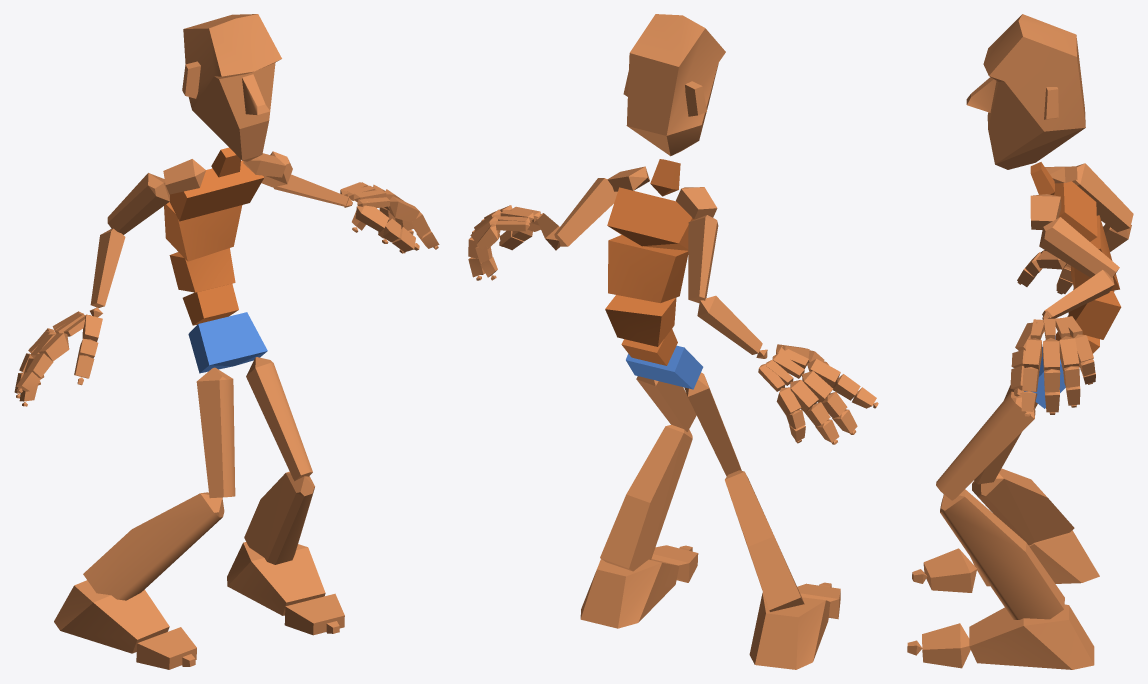
The picture shows the model from 3 angles, left to right: view 1: azimuth 30°, elevation 25°; view 2: azimuth 150°, elevation 25°; view 3: azimuth 270°, elevation 25°; orthographic projection. The views are drawn at different scales.
Visible parts, largest first — view 1: BOPED_Head, BOPED_R_leg, BOPED_R_foot, BOPED_R_foot01, BOPED_L_leg, BOPED_R_legup, BOPED_L_legup, Bone01, Bone04, Bone05, Bone03, BOPED_R_arm_upper (+8 smaller); view 2: BOPED_Head, BOPED_L_leg, BOPED_R_foot01, BOPED_R_foot, BOPED_R_leg, Bone04, Bone05, Bone03, BOPED_R_arm_upper, BOPED_R_legup, BOPED_L_arm_upper, Bone01 (+8 smaller); view 3: BOPED_Head, BOPED_L_leg, BOPED_R_foot01, BOPED_R_leg, BOPED_L_legup, BOPED_R_foot, BOPED_L_arm_upper, BOPED_R_foot_toe01, BOPED_R_arm_upper, BOPED_R_foot_toe04, Bone05, Bone03 (+15 smaller).
Part boxes in pixels (x1,y1,x2,y2): BOPED_Head: (182, 14, 281, 161); BOPED_R_leg: (83, 492, 224, 600); BOPED_R_foot: (54, 580, 169, 653); BOPED_R_foot01: (227, 542, 325, 615); BOPED_L_leg: (244, 471, 314, 564); BOPED_R_legup: (196, 367, 235, 498); BOPED_L_legup: (246, 357, 312, 481); Bone01: (188, 312, 267, 373); Bone04: (164, 202, 242, 261); Bone05: (170, 160, 264, 221); Bone03: (169, 248, 235, 292); BOPED_R_arm_upper: (107, 173, 169, 234); BOPED_Head: (623, 14, 725, 156); BOPED_L_leg: (600, 424, 692, 571); BOPED_R_foot01: (580, 559, 679, 628); BOPED_R_foot: (749, 592, 830, 669); BOPED_R_leg: (725, 470, 804, 611); Bone04: (608, 235, 688, 303); Bone05: (607, 187, 694, 250); Bone03: (605, 295, 676, 346); BOPED_R_arm_upper: (688, 215, 718, 303); BOPED_R_legup: (684, 372, 741, 476); BOPED_L_arm_upper: (554, 178, 617, 246); Bone01: (626, 345, 703, 389); BOPED_Head: (966, 14, 1085, 169); BOPED_L_leg: (940, 489, 1064, 619); BOPED_R_foot01: (969, 604, 1094, 669); BOPED_R_leg: (972, 468, 1074, 545); BOPED_L_legup: (936, 391, 1035, 500); BOPED_R_foot: (970, 530, 1099, 586); BOPED_L_arm_upper: (1039, 217, 1119, 277); BOPED_R_foot_toe01: (923, 548, 976, 592); BOPED_R_arm_upper: (1072, 163, 1133, 232); BOPED_R_foot_toe04: (922, 623, 970, 668); Bone05: (1054, 181, 1097, 241); Bone03: (1068, 288, 1121, 339).
Size of the model in its own units: 130 by 178 by 59.72.
